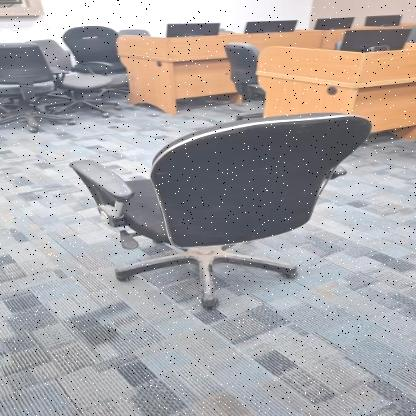chair: (63, 104, 380, 311)
